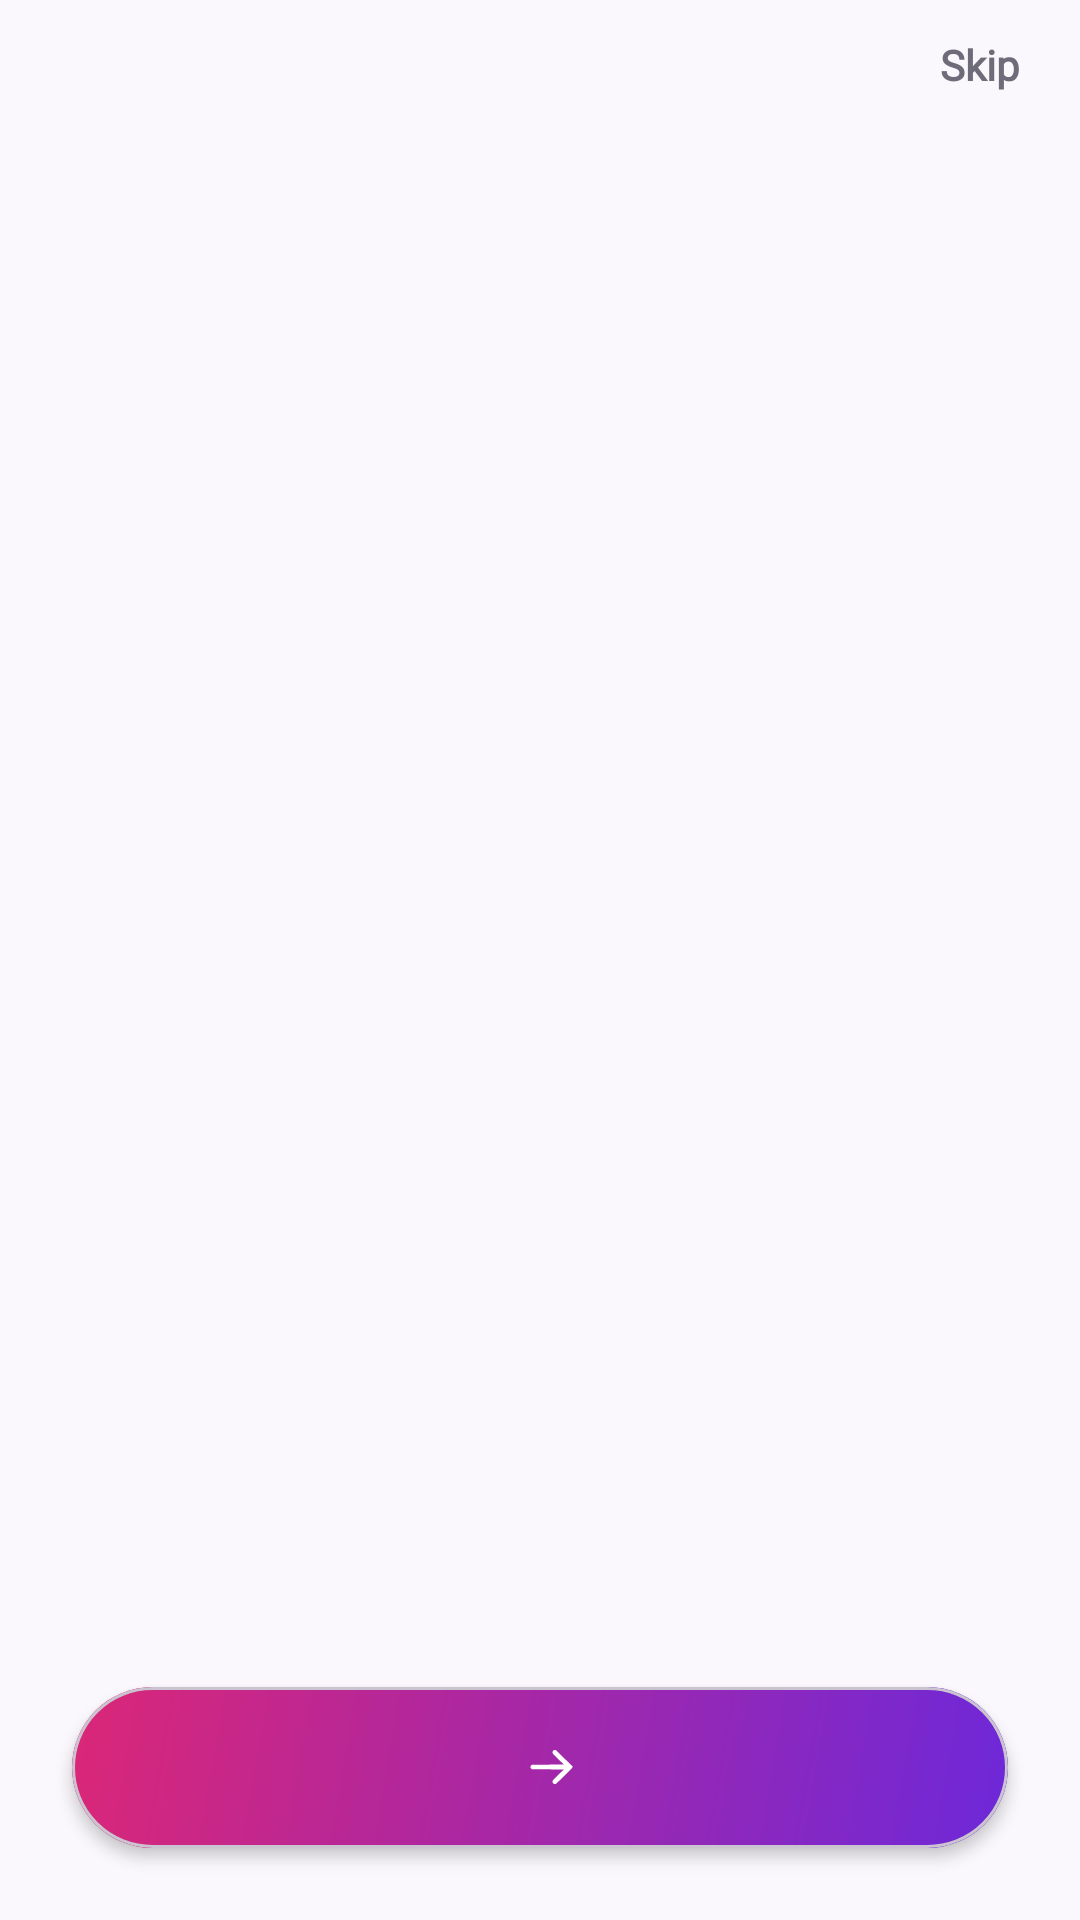

Screen size 1080 x 1920. Icon name, then its box in pixels as bbox=[x1, y1, x2, y2]:
arrow right: bbox=[530, 1750, 573, 1784]
